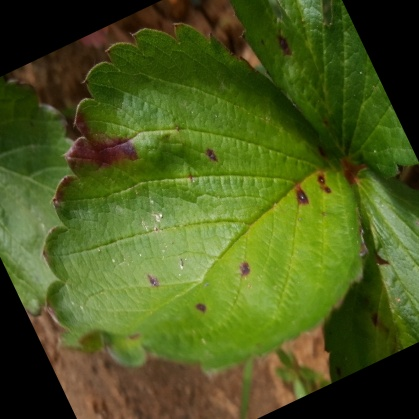Leaf_Spot: (19, 16, 347, 364), (246, 168, 418, 418), (0, 0, 120, 233), (313, 0, 418, 260)
